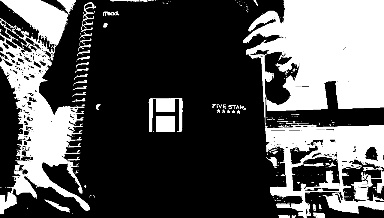H: (149, 99, 181, 132)
